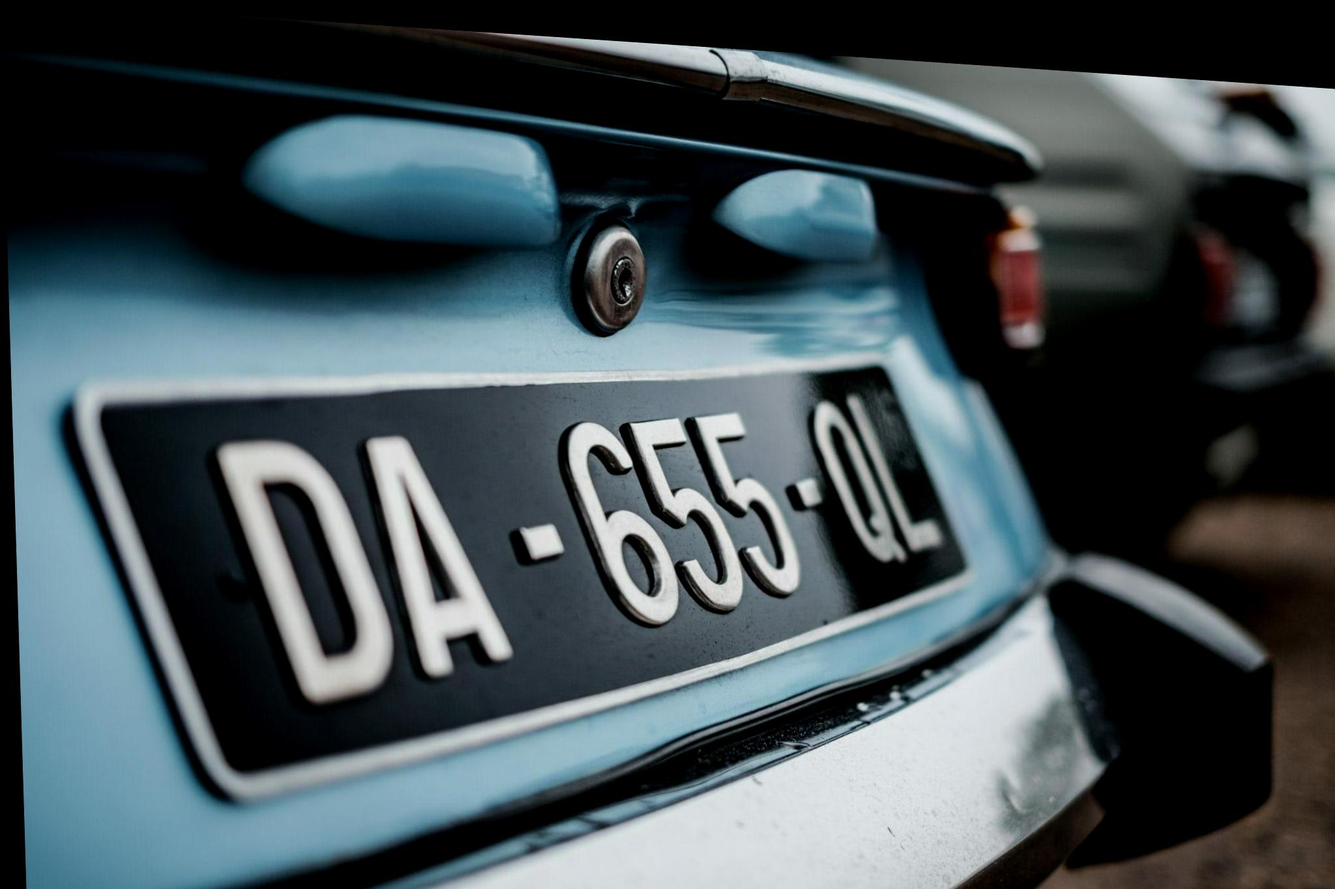License_Plate: (72, 272, 985, 854)
